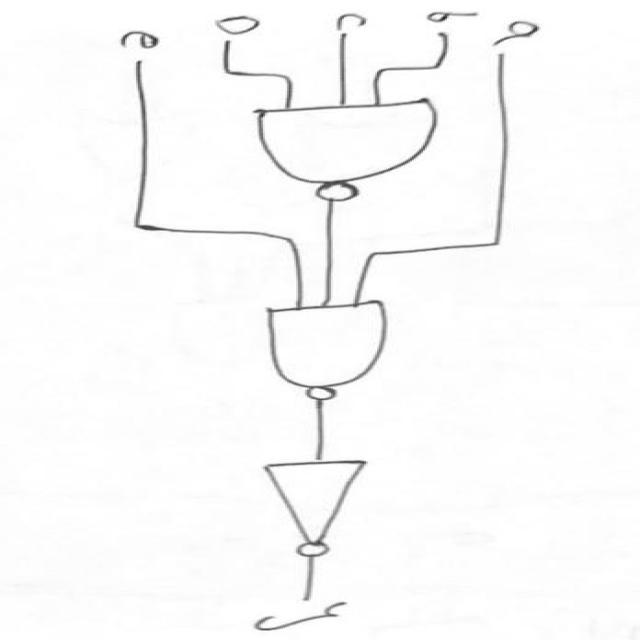NAND: (226, 97, 471, 211), (231, 295, 428, 406)
NOT: (226, 453, 396, 560)
